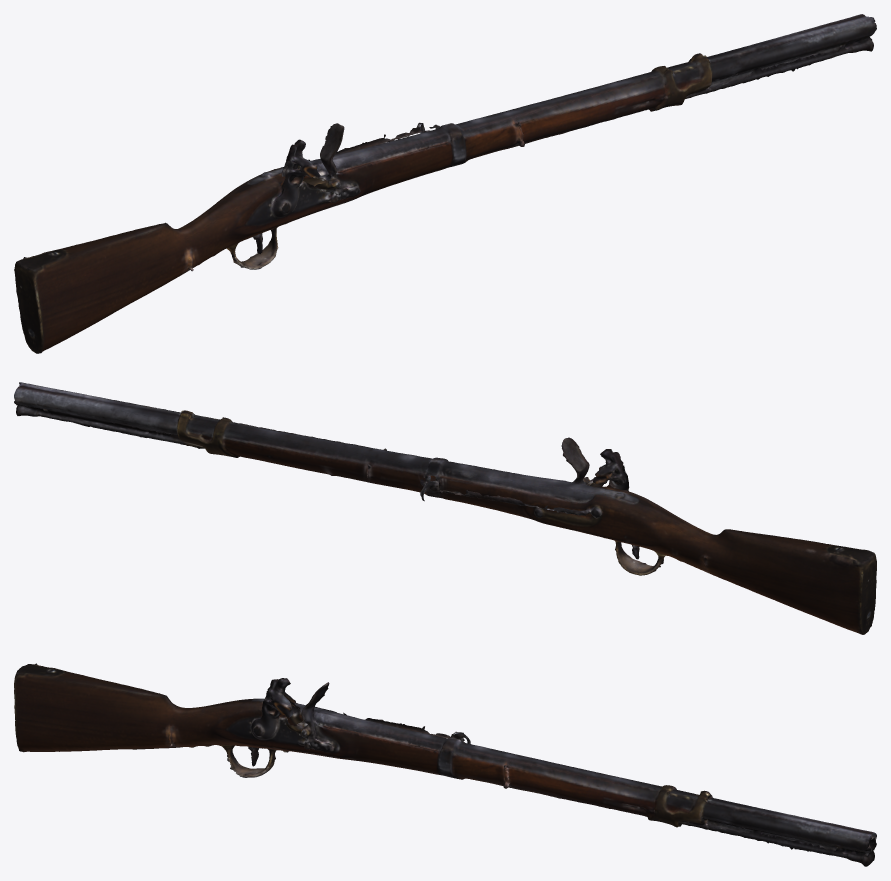
File: three-toed-sloth.glb
3 renders of one model, top to bottom at view 1: azimuth 30°, elevation 25°; view 2: azimuth 150°, elevation 25°; view 3: azimuth 330°, elevation 25°, orthographic. The views are drawn at different scales.
Parts seen in each view (by area): view 1: Object_2; view 2: Object_2; view 3: Object_2.
Part boxes in pixels (box(x1,y1,x2,y2)): Object_2: box(14, 14, 876, 353); Object_2: box(14, 382, 876, 634); Object_2: box(14, 663, 876, 866).
Bounding box in the file's own units: 1147 × 175 × 136.
1 material, 1 textured.
